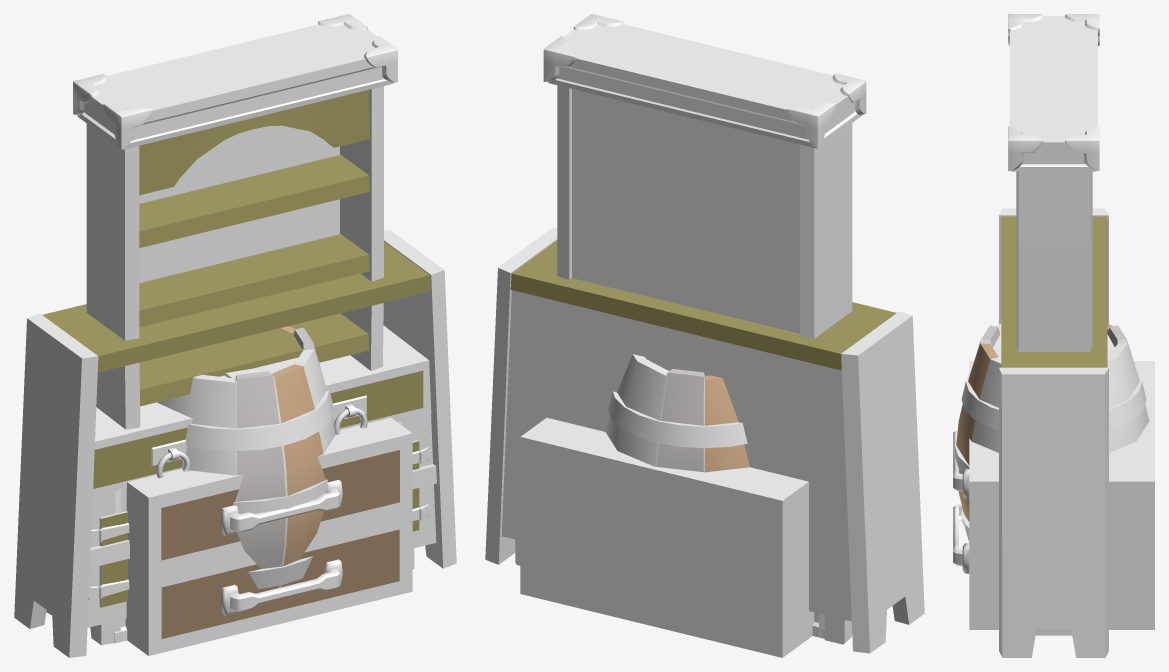
File: HouseholdProps.glb
3 renders of one model, left to right at view 1: azimuth 30°, elevation 25°; view 2: azimuth 150°, elevation 25°; view 3: azimuth 270°, elevation 25°, orthographic. The views are drawn at different scales.
Parts seen in each view (by area): view 1: Bookcase_2, Cabinet, Workbench_Drawers, Barrel, Shelf_Simple, Shelf_Small_Bottles; view 2: Bookcase_2, Cabinet, Workbench_Drawers, Barrel, Shelf_Simple; view 3: Cabinet, Bookcase_2, Workbench_Drawers, Barrel.
Boxes of the visible parts, x1,y1,x2,y2 form: Bookcase_2: [73, 14, 397, 643]; Cabinet: [14, 229, 456, 657]; Workbench_Drawers: [125, 417, 412, 655]; Barrel: [157, 326, 335, 588]; Shelf_Simple: [46, 464, 436, 615]; Shelf_Small_Bottles: [90, 420, 414, 645]; Bookcase_2: [543, 14, 866, 638]; Cabinet: [485, 227, 924, 653]; Workbench_Drawers: [520, 417, 814, 657]; Barrel: [605, 354, 749, 472]; Shelf_Simple: [515, 539, 852, 644]; Cabinet: [999, 208, 1108, 657]; Bookcase_2: [1008, 14, 1099, 635]; Workbench_Drawers: [953, 361, 1154, 629]; Barrel: [954, 323, 1149, 541].
Bounding box in the file's own units: 1.35 × 1.75 × 0.65.
